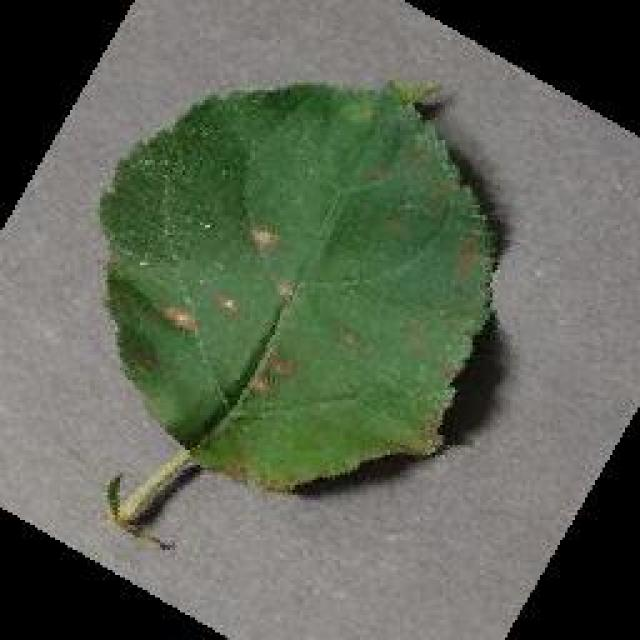apple cedar apple rust: (95, 73, 503, 525)
